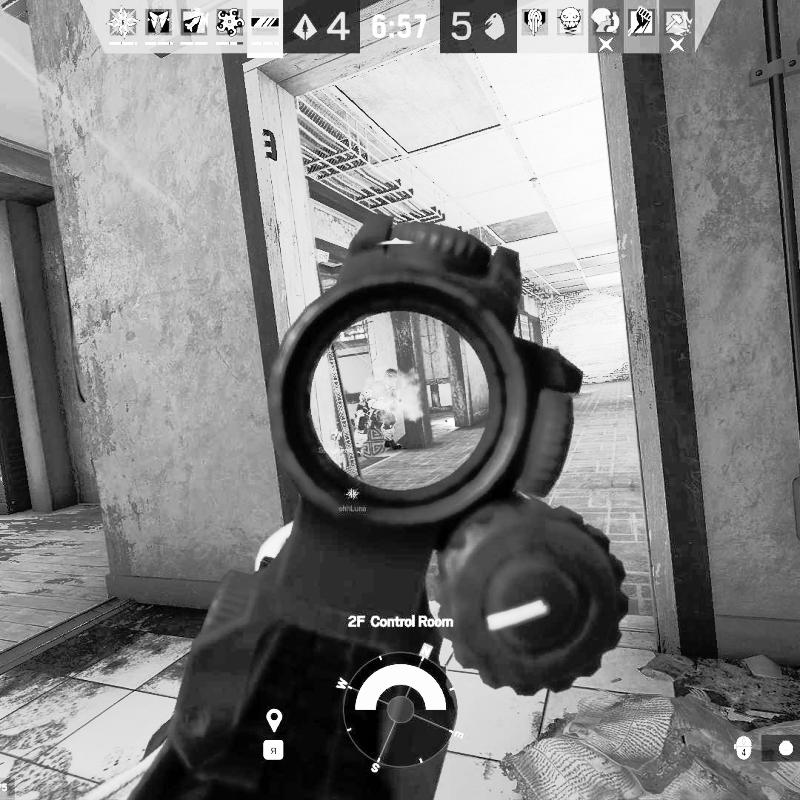Character: (351, 367, 405, 460)
Friend_label: (318, 427, 354, 455), (337, 483, 368, 514)
Head: (383, 368, 401, 391)
